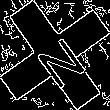N_NW: (24, 23, 86, 87)
